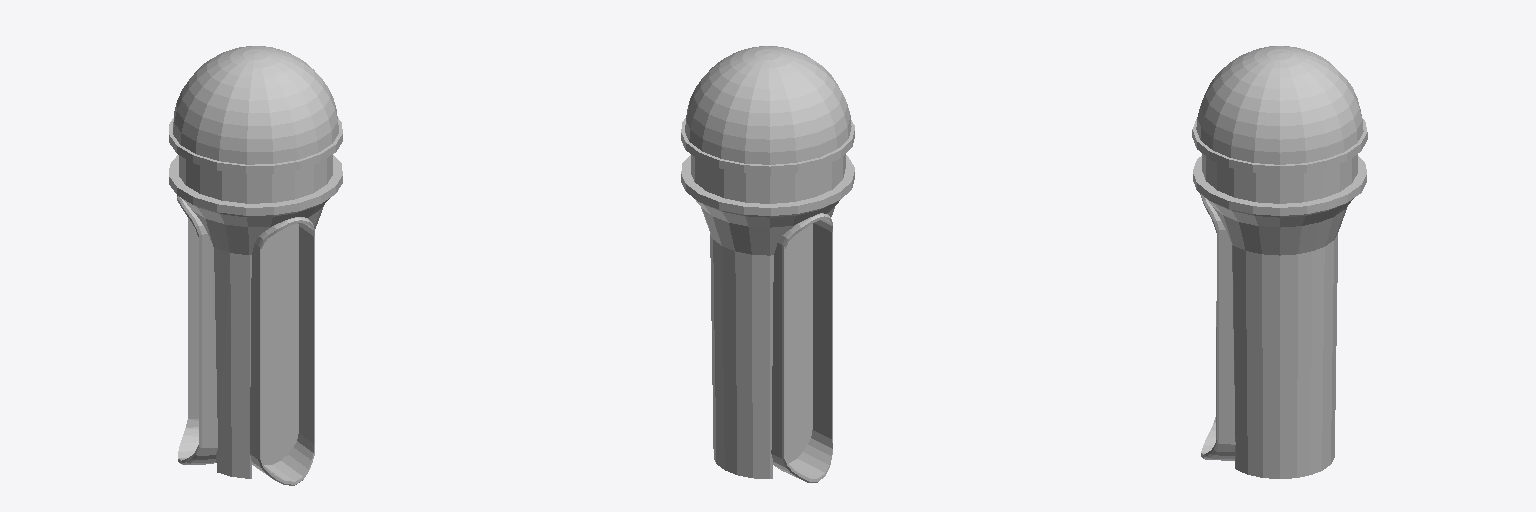
The model's file is Right Walk Building.obj.
3 views of the same model, side by side, from view 1: azimuth 30°, elevation 25°; view 2: azimuth 150°, elevation 25°; view 3: azimuth 270°, elevation 25° (orthographic).
Parts seen in each view (by area): view 1: Dome_Base, Door_Right, Door_Left; view 2: Dome_Base, Door_Left; view 3: Dome_Base, Door_Right.
Part boxes in pixels (bbox=[...]): Dome_Base: bbox=[169, 46, 342, 478]; Door_Right: bbox=[250, 217, 314, 485]; Door_Left: bbox=[177, 196, 217, 464]; Dome_Base: bbox=[681, 46, 854, 478]; Door_Left: bbox=[771, 213, 832, 482]; Dome_Base: bbox=[1192, 46, 1367, 478]; Door_Right: bbox=[1200, 194, 1235, 460].
Bounding box in the file's own units: 2.09 × 5.33 × 2.09.